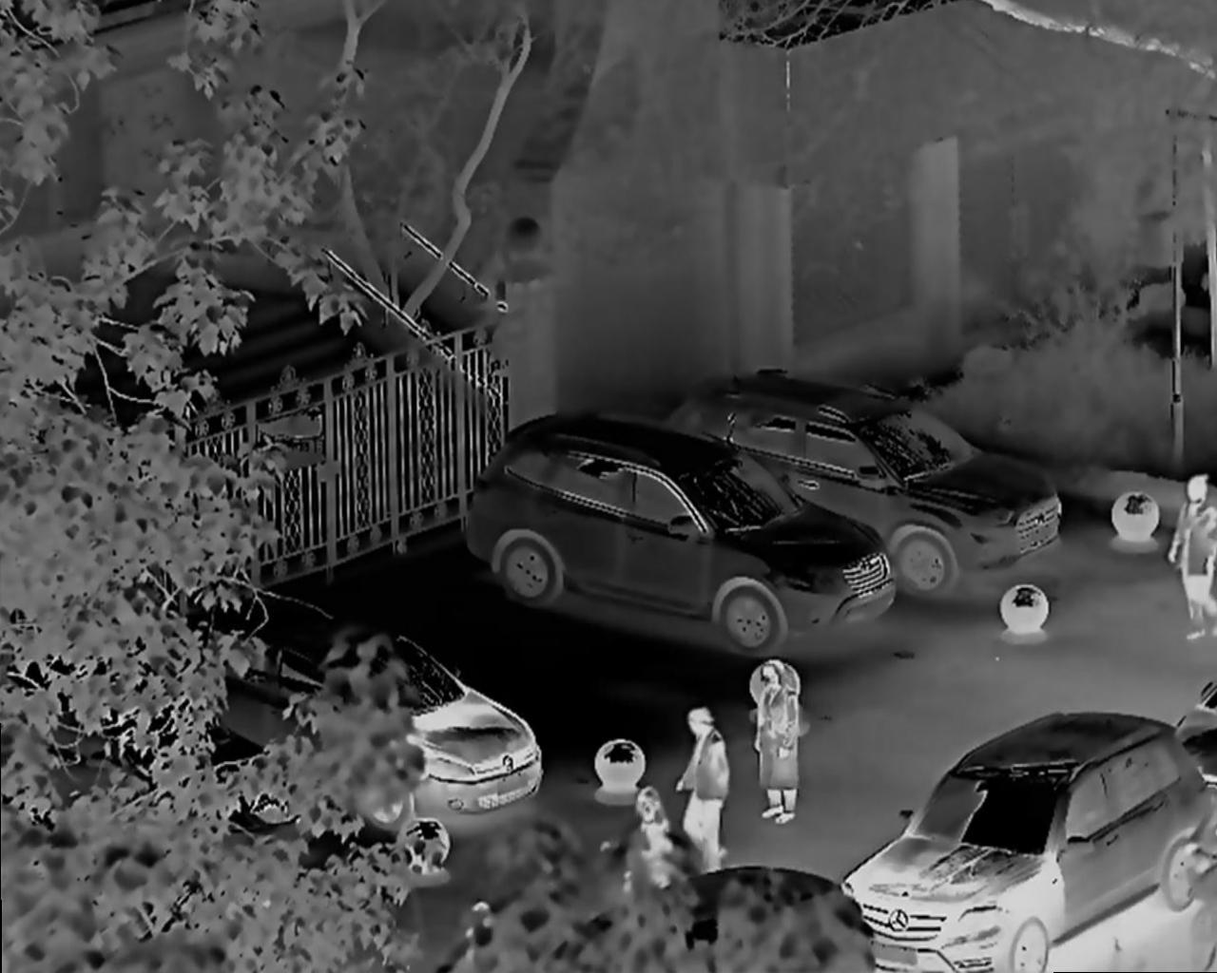person: (763, 654, 816, 830), (674, 713, 735, 864), (628, 778, 692, 918), (1166, 472, 1217, 647)
